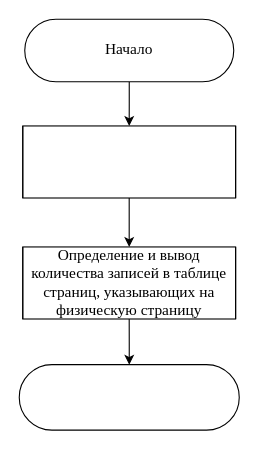
The diagram is 259 pixels wide and 450 high, and some of its shapes have lost their labels. The centre of each missing label's shape, as x and y in pixels:
Конец: the point at 128,397
Определение и вывод количества ссылок на физическую страницу: the point at 129,161
